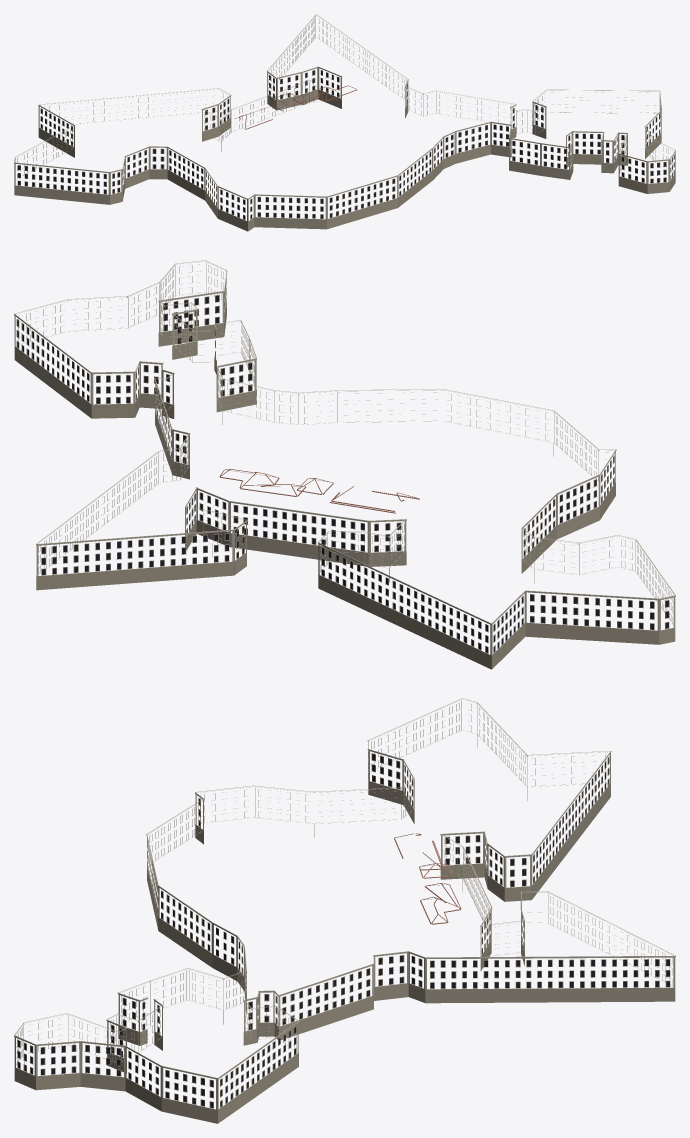
The picture shows the model from 3 angles, top to bottom: view 1: azimuth 30°, elevation 25°; view 2: azimuth 150°, elevation 25°; view 3: azimuth 270°, elevation 25°; orthographic projection. The views are drawn at different scales.
Parts seen in each view (by area): view 1: detail; view 2: detail; view 3: detail.
Part boxes in pixels (x1,y1,x2,y2): detail: [14, 14, 675, 231]; detail: [14, 260, 675, 669]; detail: [14, 698, 675, 1123].
Size of the model in its own units: 306 by 23.16 by 225.
